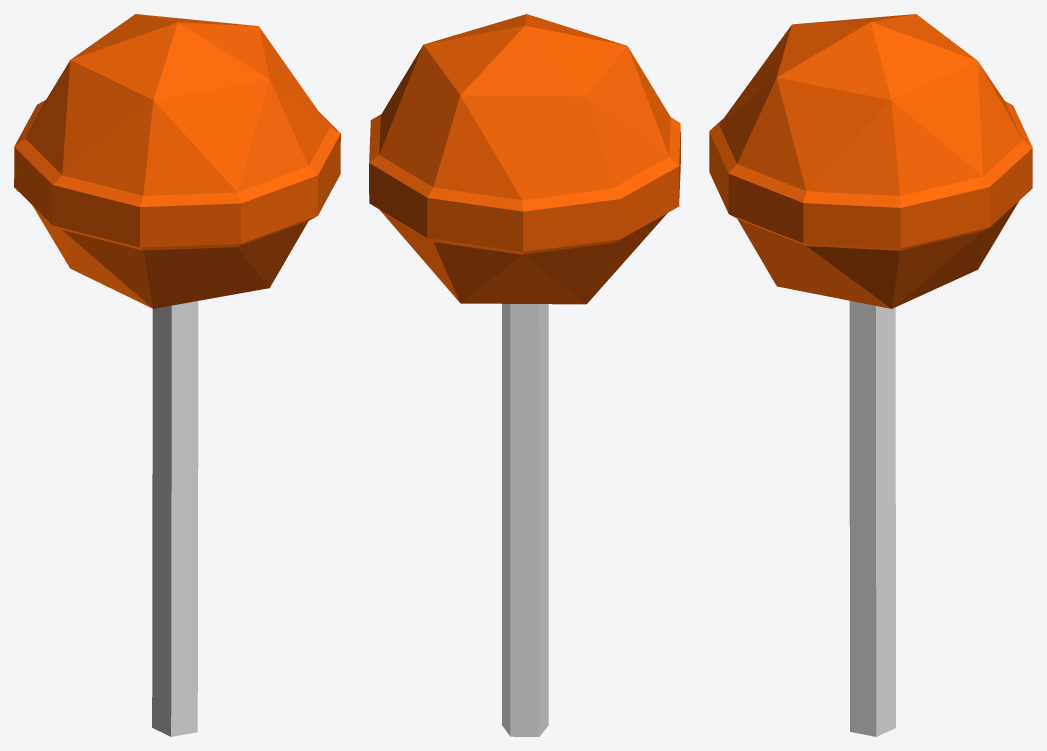
Rendered from lollipop_orange.fbx.
3 renders of one model, left to right at view 1: azimuth 30°, elevation 25°; view 2: azimuth 150°, elevation 25°; view 3: azimuth 270°, elevation 25°, orthographic.
Visible parts, largest first — view 1: lollipop_orange; view 2: lollipop_orange; view 3: lollipop_orange.
Part boxes in pixels (left/top/right/bottom): lollipop_orange: left=14, top=14, right=340, bottom=736; lollipop_orange: left=369, top=14, right=680, bottom=736; lollipop_orange: left=709, top=14, right=1032, bottom=736.
Size of the model in its own units: 3.41 by 8.22 by 3.42.
